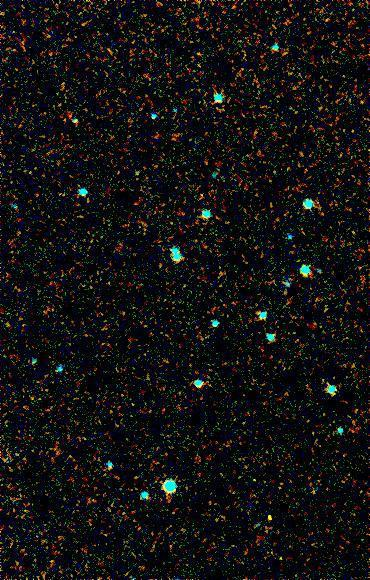star: (253, 503, 283, 533)
